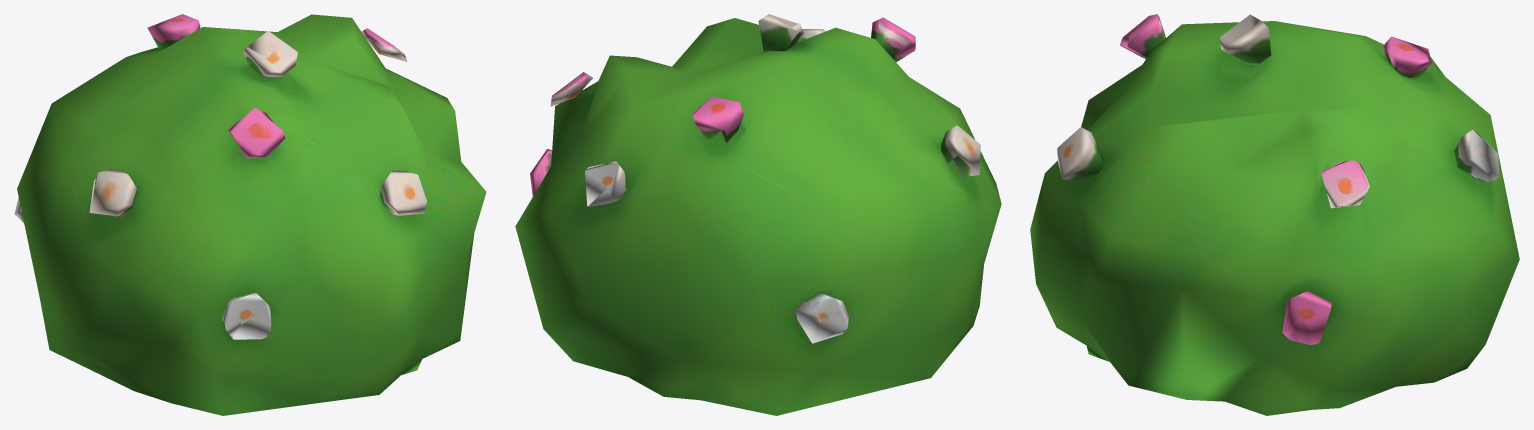
Rendered from bush.glb.
The picture shows the model from 3 angles, left to right: view 1: azimuth 30°, elevation 25°; view 2: azimuth 150°, elevation 25°; view 3: azimuth 270°, elevation 25°; orthographic projection. The views are drawn at different scales.
Parts seen in each view (by area): view 1: tripo_node_1c65e2fc-c338-4c4d-9605-04da0b1df11b; view 2: tripo_node_1c65e2fc-c338-4c4d-9605-04da0b1df11b; view 3: tripo_node_1c65e2fc-c338-4c4d-9605-04da0b1df11b.
Boxes of the visible parts, x1,y1,x2,y2 form: tripo_node_1c65e2fc-c338-4c4d-9605-04da0b1df11b: [14, 14, 486, 415]; tripo_node_1c65e2fc-c338-4c4d-9605-04da0b1df11b: [515, 14, 1001, 415]; tripo_node_1c65e2fc-c338-4c4d-9605-04da0b1df11b: [1030, 14, 1519, 415].
Size of the model in its own units: 0.998 by 0.666 by 0.9824.
1 material, 1 textured.
